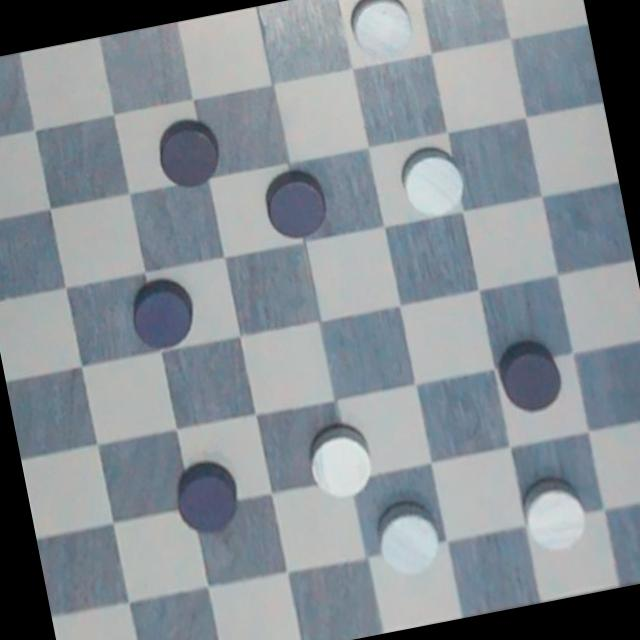BOARD: (0, 0, 640, 640)
black: (142, 104, 234, 198), (254, 161, 346, 252), (120, 270, 204, 360), (168, 452, 248, 546), (488, 335, 572, 421)
white: (514, 470, 600, 560), (296, 421, 382, 507), (393, 138, 479, 223), (374, 493, 450, 582), (340, 0, 426, 67)
